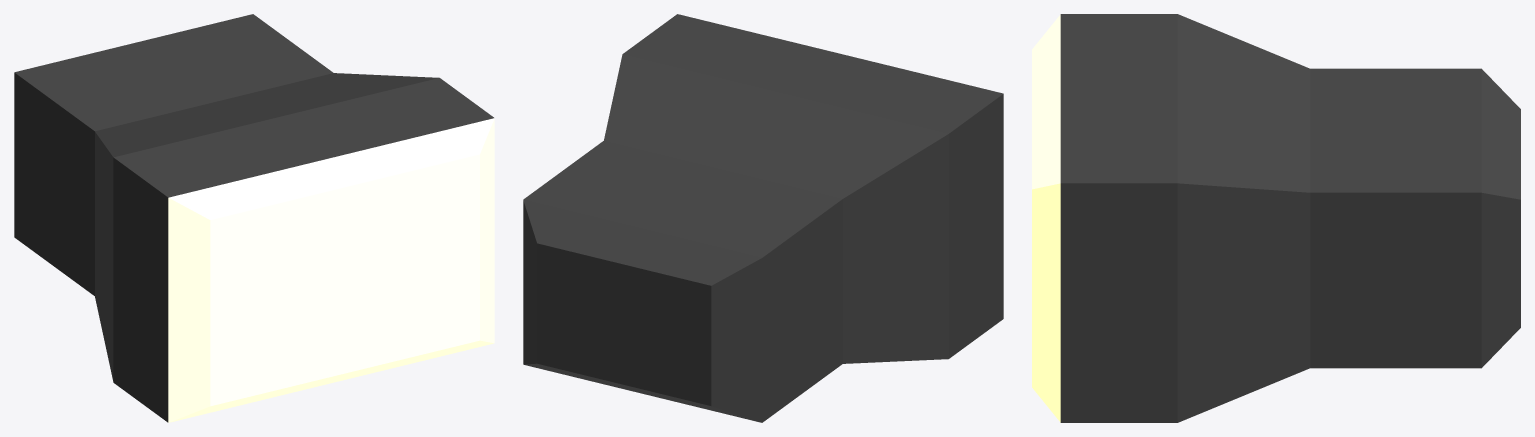
The model's file is spotlight_head.fbx.
3 renders of one model, left to right at view 1: azimuth 30°, elevation 25°; view 2: azimuth 150°, elevation 25°; view 3: azimuth 270°, elevation 25°, orthographic. The views are drawn at different scales.
Parts seen in each view (by area): view 1: spotlight_head; view 2: spotlight_head; view 3: spotlight_head.
Part boxes in pixels (x1,y1,x2,y2): spotlight_head: (14, 14, 494, 422); spotlight_head: (523, 14, 1003, 422); spotlight_head: (1032, 14, 1520, 422).
Size of the model in its own units: 36.76 by 24.25 by 44.84.
